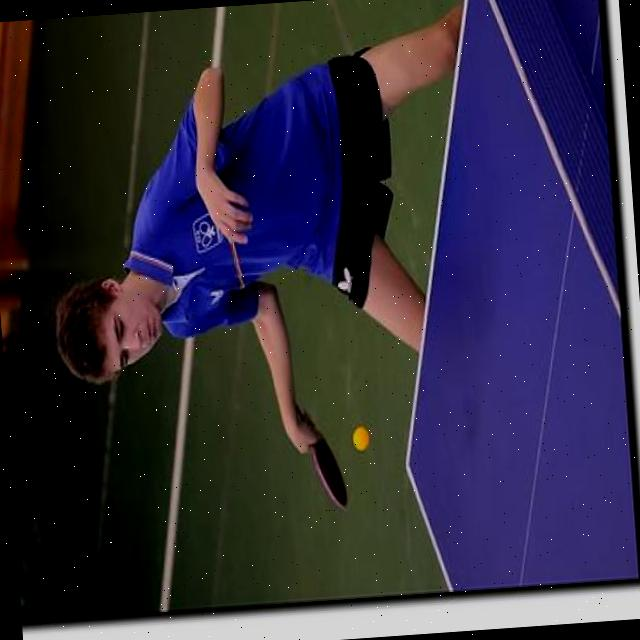ping-pong-ball: (350, 425, 370, 452)
